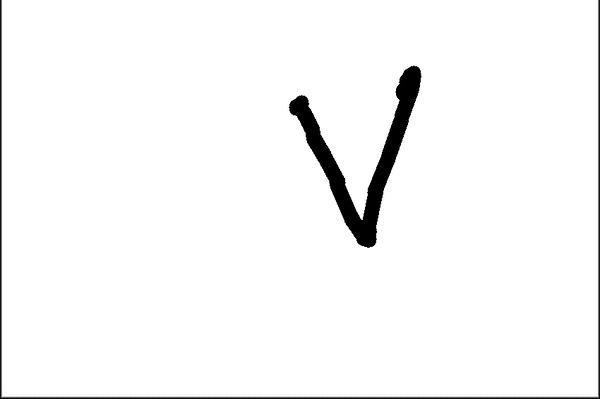V: (264, 53, 455, 255)
